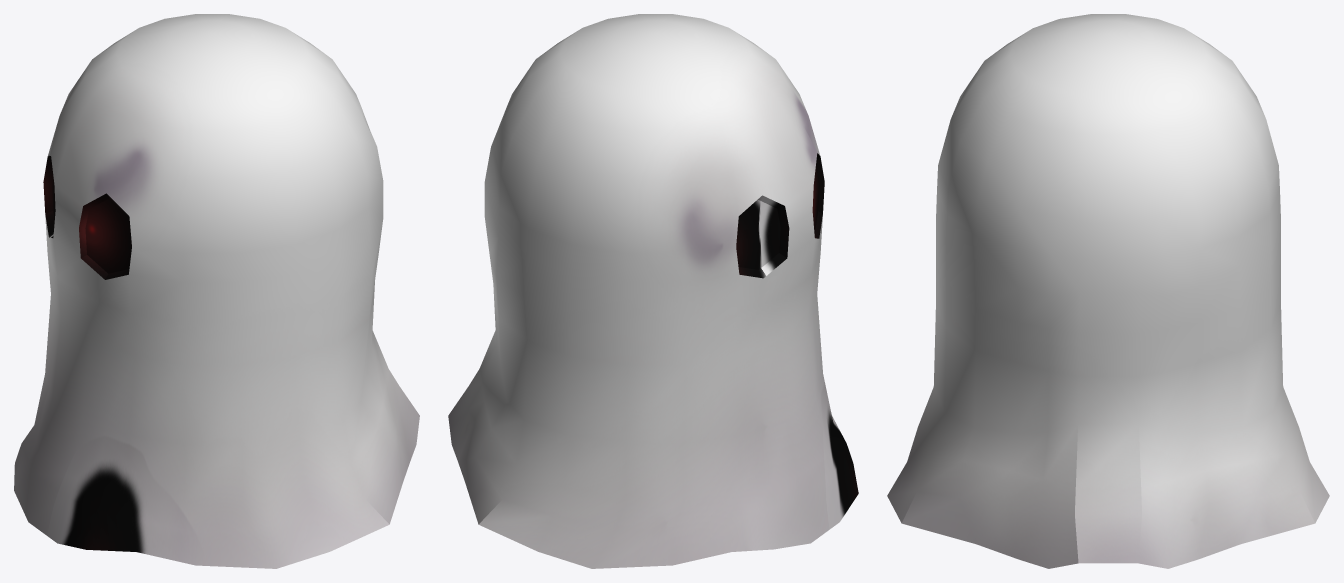
File: Ghost.fbx
3 renders of one model, left to right at view 1: azimuth 30°, elevation 25°; view 2: azimuth 150°, elevation 25°; view 3: azimuth 270°, elevation 25°, orthographic. The views are drawn at different scales.
Parts seen in each view (by area): view 1: Ghost; view 2: Ghost; view 3: Ghost.
Part boxes in pixels (x1,y1,x2,y2): Ghost: [14, 14, 419, 568]; Ghost: [448, 14, 858, 568]; Ghost: [887, 14, 1329, 568].
Size of the model in its own units: 131 by 159 by 135.
